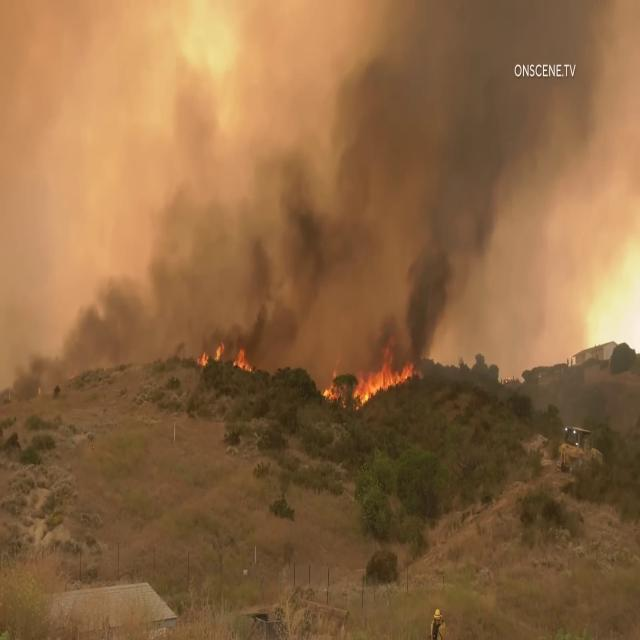fire: (323, 328, 410, 421)
smoke: (404, 94, 460, 345), (245, 200, 334, 334)
